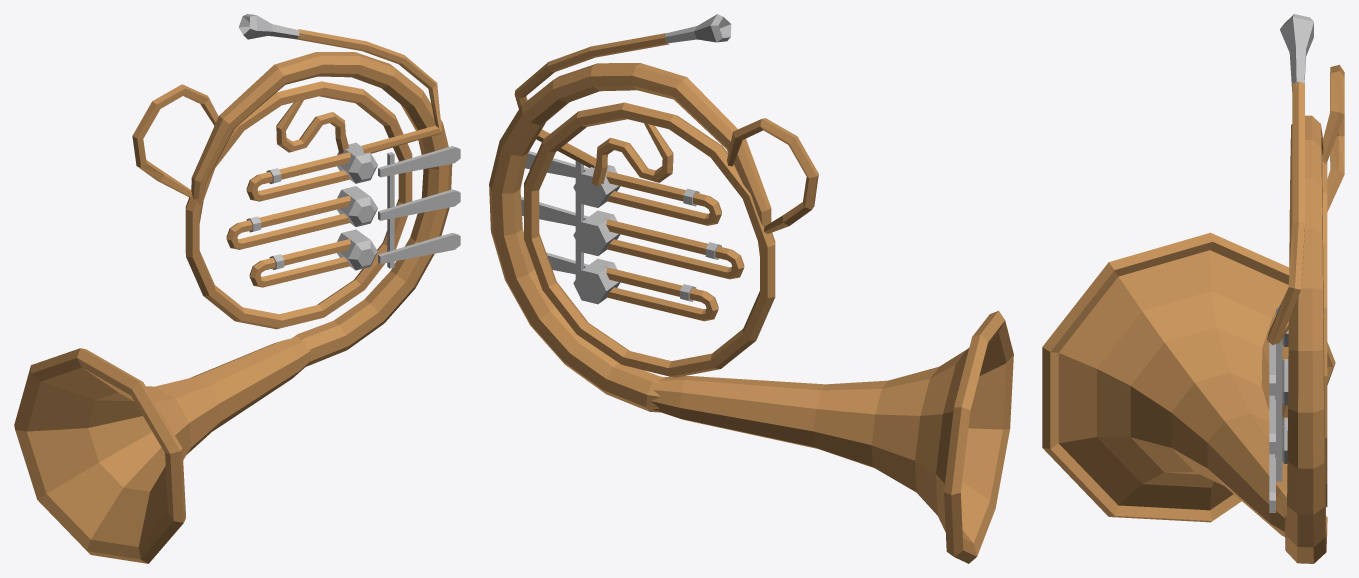
File: french-horn-58da56.glb
3 renders of one model, left to right at view 1: azimuth 30°, elevation 25°; view 2: azimuth 150°, elevation 25°; view 3: azimuth 270°, elevation 25°, orthographic. The views are drawn at different scales.
Visible parts, largest first — view 1: horn-body, lever-3-paddle, lever-1-paddle, lever-2-paddle; view 2: horn-body, lever-2-paddle; view 3: horn-body, lever-2-paddle, lever-3-paddle.
Boxes of the visible parts, x1=… form: horn-body: x1=14, y1=14, x2=452, y2=563; lever-3-paddle: x1=378, y1=233, x2=460, y2=263; lever-1-paddle: x1=378, y1=146, x2=460, y2=177; lever-2-paddle: x1=378, y1=189, x2=460, y2=220; horn-body: x1=489, y1=14, x2=1013, y2=563; lever-2-paddle: x1=521, y1=196, x2=588, y2=226; horn-body: x1=1042, y1=14, x2=1344, y2=563; lever-2-paddle: x1=1269, y1=395, x2=1275, y2=454; lever-3-paddle: x1=1269, y1=454, x2=1275, y2=512.
Bounding box in the file's own units: 0.7034 × 0.7369 × 0.3186.
